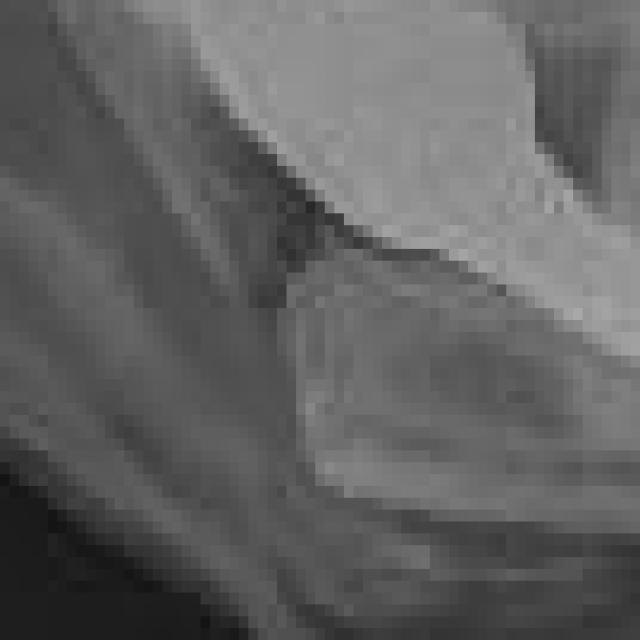fracture: (2, 6, 640, 640)
